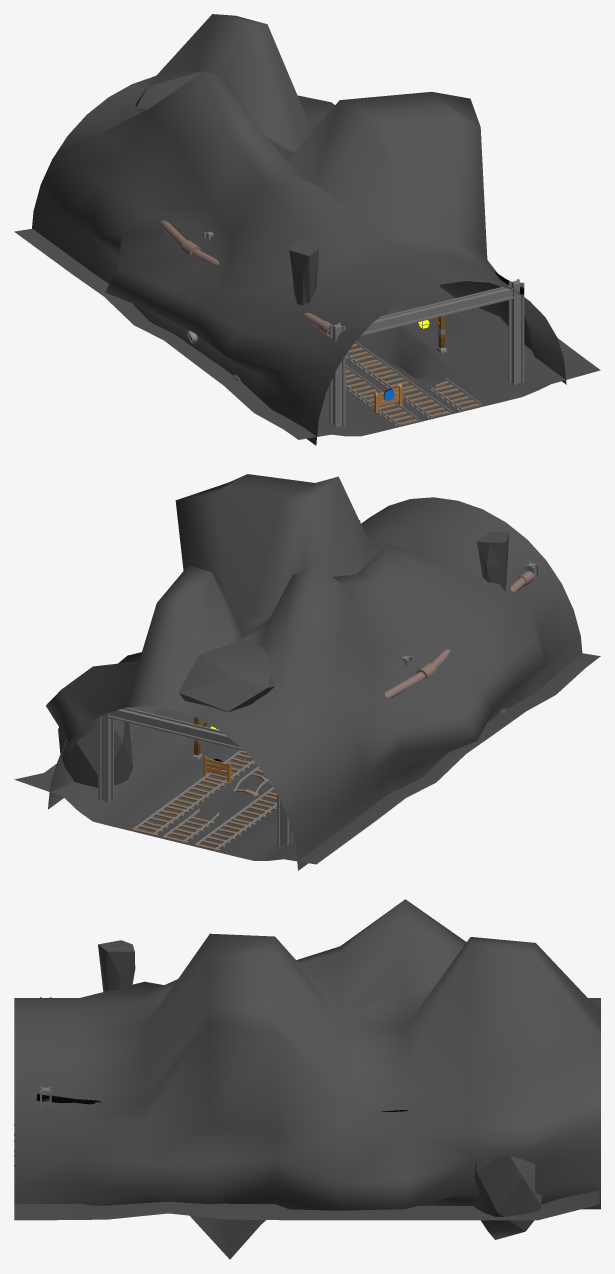
The model's file is Modulo de metal V2.fbx.
The picture shows the model from 3 angles, top to bottom: view 1: azimuth 30°, elevation 25°; view 2: azimuth 150°, elevation 25°; view 3: azimuth 270°, elevation 25°; orthographic projection. The views are drawn at different scales.
Visible parts, largest first — view 1: Cube.021; view 2: Cube.021; view 3: Cube.021.
Part boxes in pixels (box(x1,y1,x2,y2)): Cube.021: box(14, 14, 600, 445); Cube.021: box(14, 474, 600, 870); Cube.021: box(14, 899, 600, 1259).
Bounding box in the file's own units: 3440 × 2863 × 4762.
